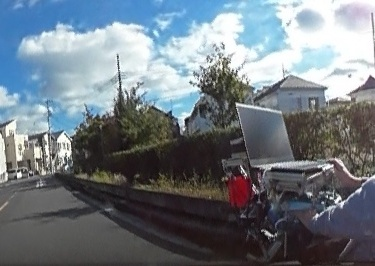person: (314, 23, 375, 266)
